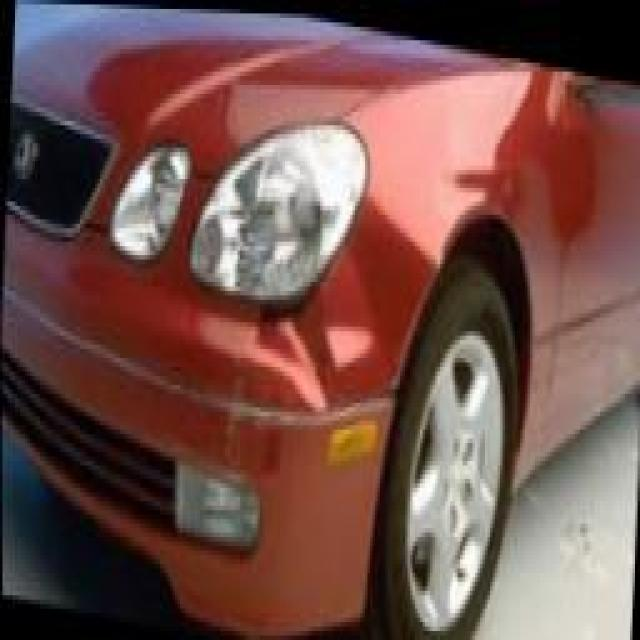Fender: (201, 156, 442, 408)
